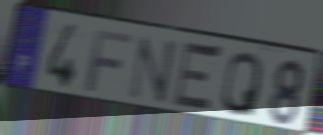4: (44, 22, 79, 91)
8: (267, 56, 307, 127)
E: (170, 37, 225, 117)
F: (84, 28, 136, 95)
N: (126, 34, 180, 107)
Q: (219, 50, 264, 119)
